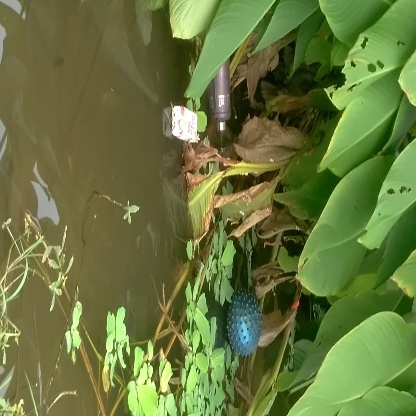ball: (222, 283, 272, 360)
milk-box: (168, 96, 205, 148)
